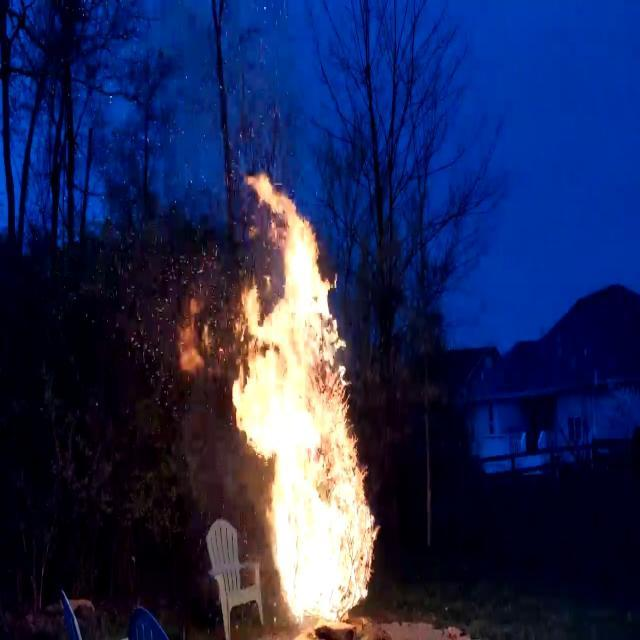Fire: (213, 156, 384, 623)
